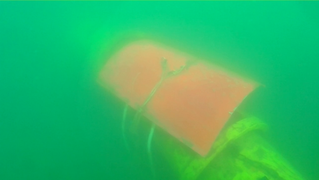leak: (96, 37, 261, 158)
pipe: (107, 90, 303, 180), (67, 13, 147, 83)
